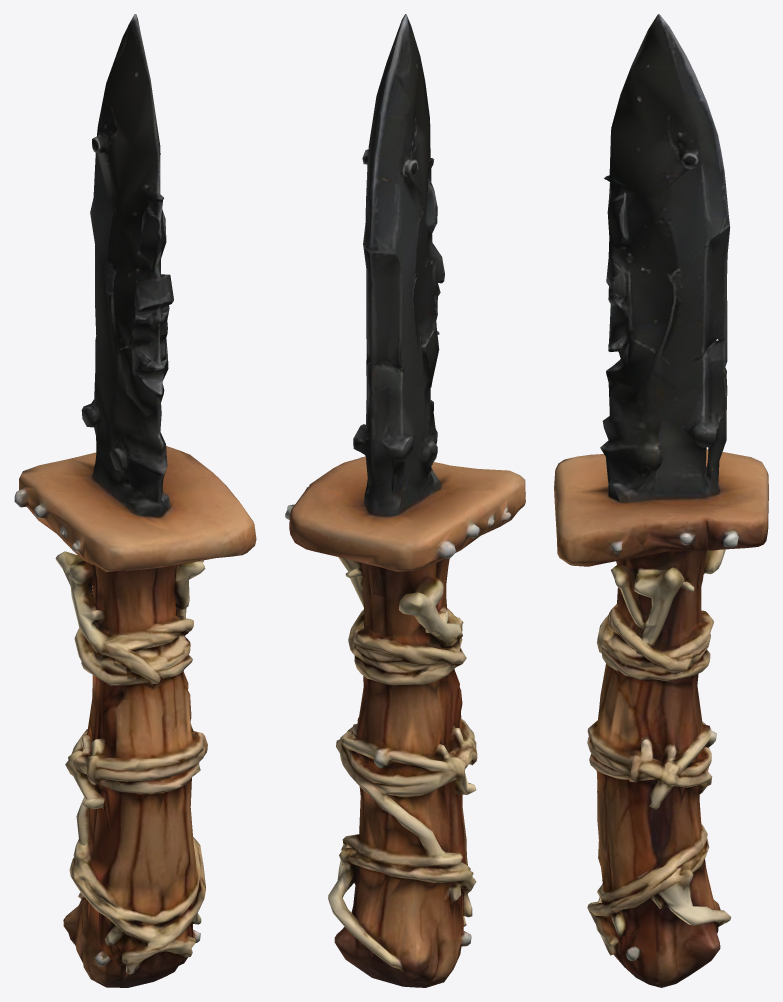
Rendered from cuchillo_obsidiana.glb.
The picture shows the model from 3 angles, left to right: view 1: azimuth 30°, elevation 25°; view 2: azimuth 150°, elevation 25°; view 3: azimuth 270°, elevation 25°; orthographic projection.
Parts seen in each view (by area): view 1: tripo_node_dce2c30c-b92b-42f5-bd3b-3be5803c7514; view 2: tripo_node_dce2c30c-b92b-42f5-bd3b-3be5803c7514; view 3: tripo_node_dce2c30c-b92b-42f5-bd3b-3be5803c7514.
Part boxes in pixels (left/top/right/bottom): tripo_node_dce2c30c-b92b-42f5-bd3b-3be5803c7514: left=14, top=14, right=256, bottom=987; tripo_node_dce2c30c-b92b-42f5-bd3b-3be5803c7514: left=285, top=14, right=525, bottom=987; tripo_node_dce2c30c-b92b-42f5-bd3b-3be5803c7514: left=554, top=14, right=768, bottom=987.
Size of the model in its own units: 0.1867 by 0.9987 by 0.2024.
Materials: 1 (1 with a texture image).
